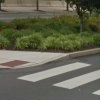crosswalk: (17, 60, 100, 95)
